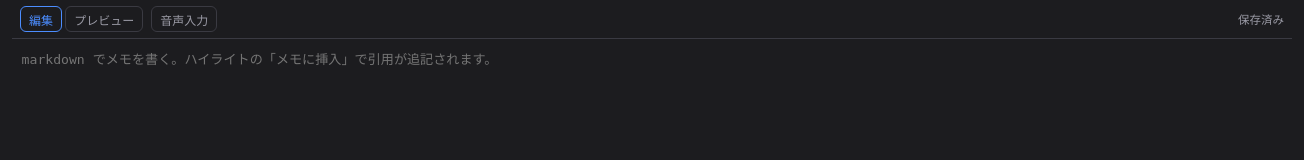
Scenario: NotesPanel dictation button › shows the button in edit mode and hides it in preview
Expected: the button "音声入力" is shown, left=151, top=6, right=217, bottom=32
Click the button "プレビュー": (104, 19) left=65, top=6, right=143, bottom=32
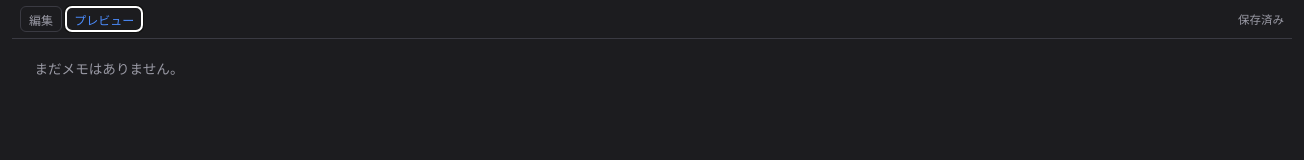
Expected: the button "音声入力" is gone
